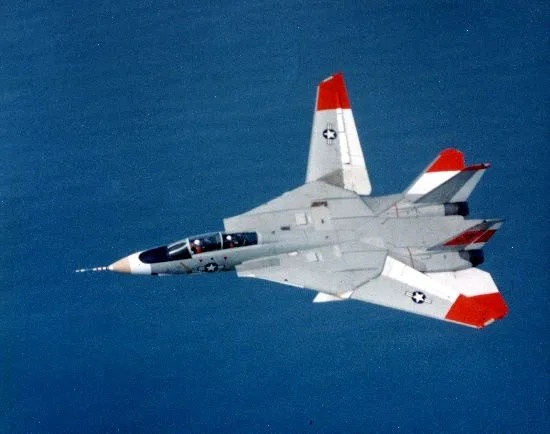F14: (73, 71, 509, 330)
